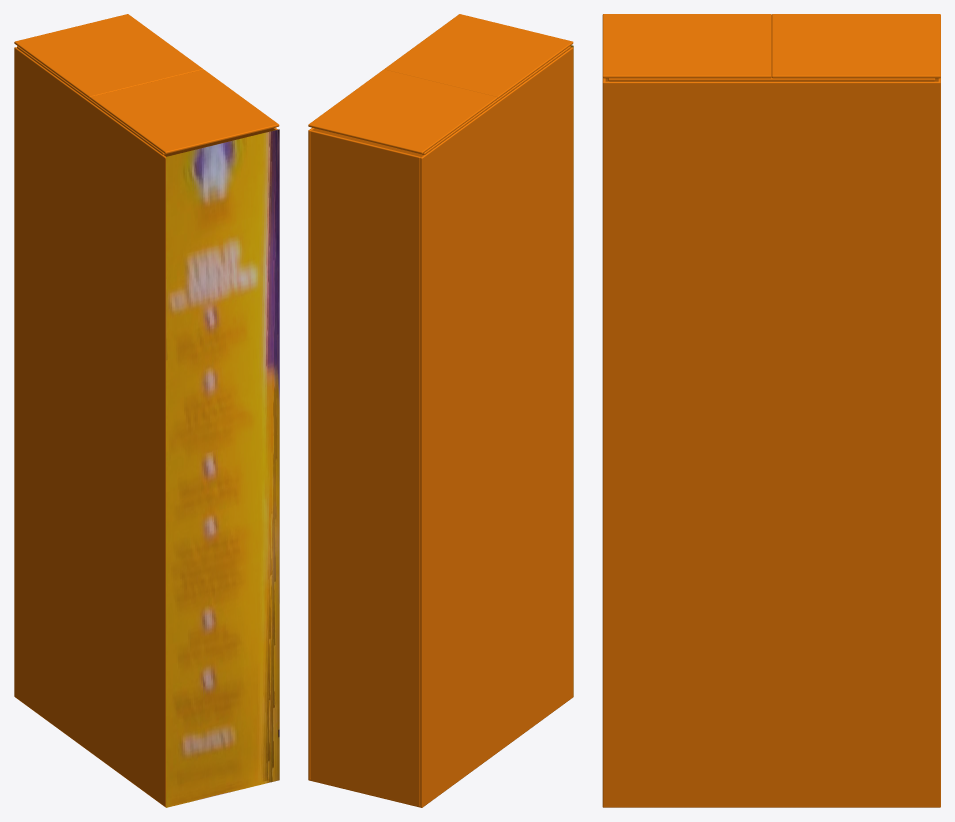
3 views of the same model, side by side, from view 1: azimuth 30°, elevation 25°; view 2: azimuth 150°, elevation 25°; view 3: azimuth 270°, elevation 25° (orthographic). The views are drawn at different scales.
Parts seen in each view (by area): view 1: slender_food_carton__body, slender_food_carton__flap_front, slender_food_carton__flap_back, slender_food_carton__flap_left; view 2: slender_food_carton__body, slender_food_carton__flap_back, slender_food_carton__flap_front, slender_food_carton__flap_left; view 3: slender_food_carton__body, slender_food_carton__flap_front, slender_food_carton__flap_back, slender_food_carton__flap_right.
Part boxes in pixels (x1,y1,x2,y2): slender_food_carton__body: [14, 47, 279, 807]; slender_food_carton__flap_front: [90, 69, 279, 154]; slender_food_carton__flap_back: [14, 14, 202, 98]; slender_food_carton__flap_left: [17, 46, 190, 154]; slender_food_carton__body: [308, 45, 573, 807]; slender_food_carton__flap_back: [308, 69, 497, 154]; slender_food_carton__flap_front: [384, 14, 573, 98]; slender_food_carton__flap_left: [397, 46, 570, 154]; slender_food_carton__body: [602, 77, 940, 807]; slender_food_carton__flap_front: [602, 14, 771, 78]; slender_food_carton__flap_back: [771, 14, 940, 78]; slender_food_carton__flap_right: [608, 77, 935, 81].
Size of the model in its own units: 0.037 by 0.2027 by 0.085.
2 materials, 1 textured.
